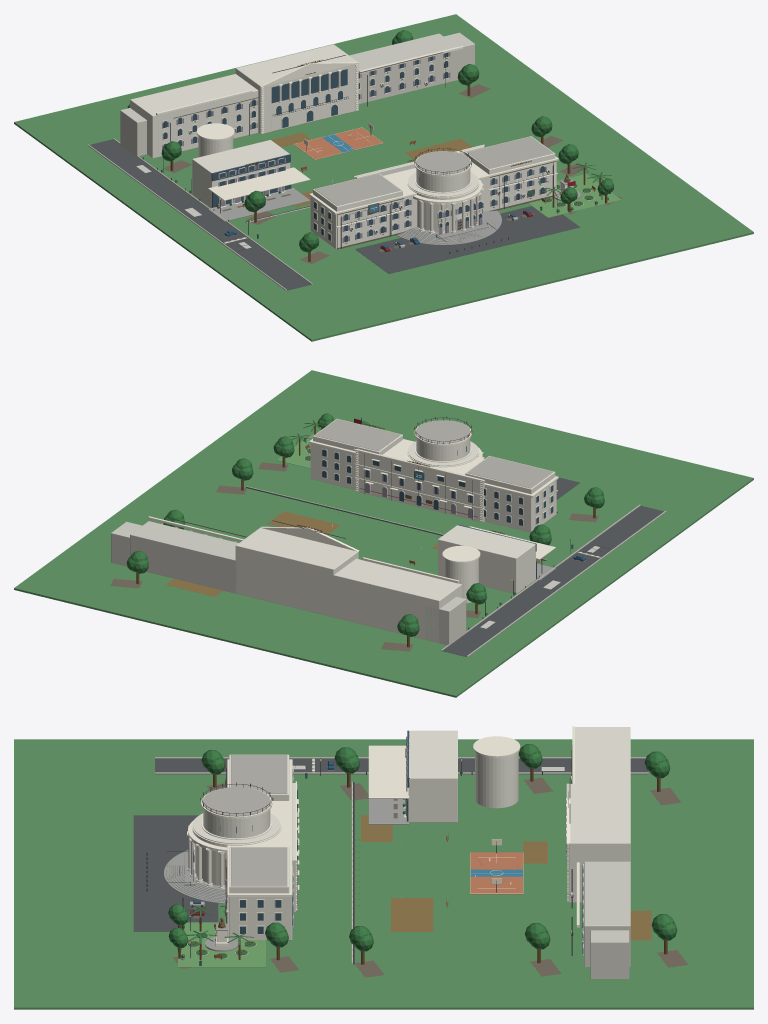
File: LaMartiniere_School_Web.glb
3 renders of one model, top to bottom at view 1: azimuth 30°, elevation 25°; view 2: azimuth 150°, elevation 25°; view 3: azimuth 270°, elevation 25°, orthographic. The views are drawn at different scales.
Parts seen in each view (by area): view 1: Campus_Ground, WEB_Heritage_Off_White, WEB_Warm_Limestone_Trim, WEB_Campus_Asphalt, WEB_Aged_Plaster_Variation, WEB_Shadowed_Blue_Glass, WEB_Weathered_Roof_Concrete, WEB_Tree_Canopy, WEB_Weathered_Stair_Stone, WEB_Subtle_Weathering, WEB_Muted_Lavender_Grey, WEB_Dark_Campus_Metal (+4 smaller); view 2: Campus_Ground, WEB_Heritage_Off_White, WEB_Aged_Plaster_Variation, WEB_Warm_Limestone_Trim, WEB_Campus_Asphalt, WEB_Weathered_Roof_Concrete, WEB_Tree_Canopy, WEB_Shadowed_Blue_Glass, WEB_Subtle_Weathering, WEB_Road_Curb_Stone, WEB_Worn_Field_Patch, WEB_Dark_Campus_Metal; view 3: Campus_Ground, WEB_Heritage_Off_White, WEB_Campus_Asphalt, WEB_Warm_Limestone_Trim, WEB_Weathered_Roof_Concrete, WEB_Aged_Plaster_Variation, WEB_Tree_Canopy, WEB_Worn_Field_Patch, WEB_Weathered_Stair_Stone, WEB_Subtle_Weathering, WEB_Formal_Garden_Green, Basketball_Court (+5 smaller).
Boxes of the visible parts, <box> form: Campus_Ground: <box>14,14,753,341</box>; WEB_Heritage_Off_White: <box>130,44,556,249</box>; WEB_Warm_Limestone_Trim: <box>156,46,573,249</box>; WEB_Campus_Asphalt: <box>90,139,580,290</box>; WEB_Aged_Plaster_Variation: <box>120,32,549,248</box>; WEB_Shadowed_Blue_Glass: <box>163,53,544,248</box>; WEB_Weathered_Roof_Concrete: <box>315,136,553,205</box>; WEB_Tree_Canopy: <box>127,30,614,252</box>; WEB_Weathered_Stair_Stone: <box>161,171,608,244</box>; WEB_Subtle_Weathering: <box>162,52,622,264</box>; WEB_Muted_Lavender_Grey: <box>162,52,546,242</box>; WEB_Dark_Campus_Metal: <box>142,53,602,253</box>; Campus_Ground: <box>14,370,753,697</box>; WEB_Heritage_Off_White: <box>235,418,556,642</box>; WEB_Aged_Plaster_Variation: <box>111,521,599,645</box>; WEB_Warm_Limestone_Trim: <box>148,423,558,583</box>; WEB_Campus_Asphalt: <box>442,477,663,656</box>; WEB_Weathered_Roof_Concrete: <box>315,419,553,488</box>; WEB_Tree_Canopy: <box>126,413,604,636</box>; WEB_Shadowed_Blue_Glass: <box>322,446,583,578</box>; WEB_Subtle_Weathering: <box>110,435,598,651</box>; WEB_Road_Curb_Stone: <box>247,450,666,657</box>; WEB_Worn_Field_Patch: <box>166,511,437,596</box>; WEB_Dark_Campus_Metal: <box>170,417,609,629</box>; Campus_Ground: <box>14,739,753,1009</box>; WEB_Heritage_Off_White: <box>188,727,630,940</box>; WEB_Campus_Asphalt: <box>133,758,648,931</box>; WEB_Warm_Limestone_Trim: <box>187,726,583,955</box>; WEB_Weathered_Roof_Concrete: <box>202,755,287,886</box>; WEB_Aged_Plaster_Variation: <box>225,765,630,978</box>; WEB_Tree_Canopy: <box>168,744,677,958</box>; WEB_Worn_Field_Patch: <box>361,815,651,940</box>; WEB_Weathered_Stair_Stone: <box>164,773,462,960</box>; WEB_Subtle_Weathering: <box>167,763,688,977</box>; WEB_Formal_Garden_Green: <box>178,839,361,967</box>; Basketball_Court: <box>470,852,522,894</box>.
Size of the model in its own units: 180 by 24.37 by 210.
